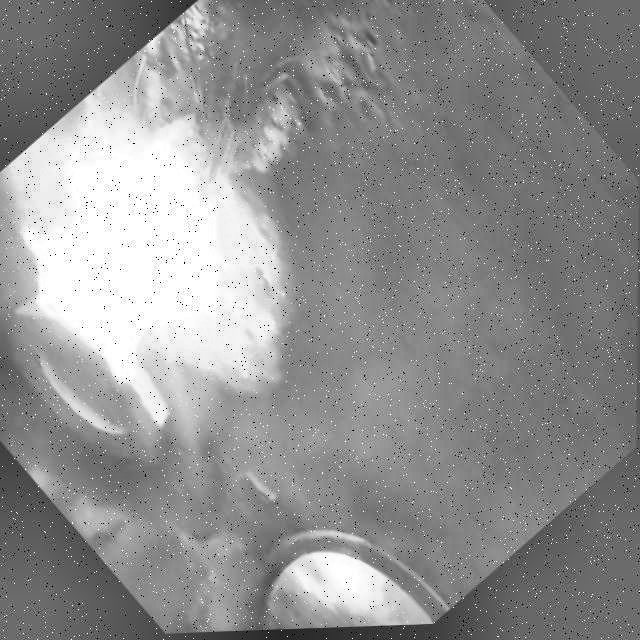Fire: (0, 97, 274, 403)
